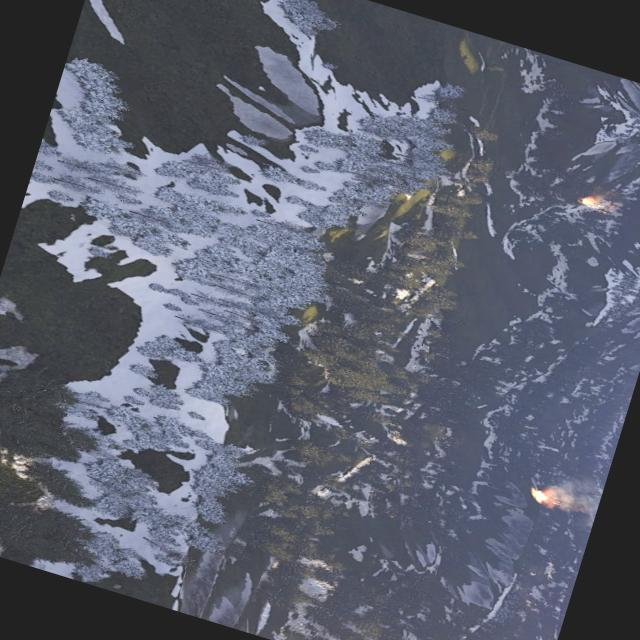fire: (576, 190, 607, 211), (527, 486, 554, 506)
smoke: (544, 468, 604, 522)
